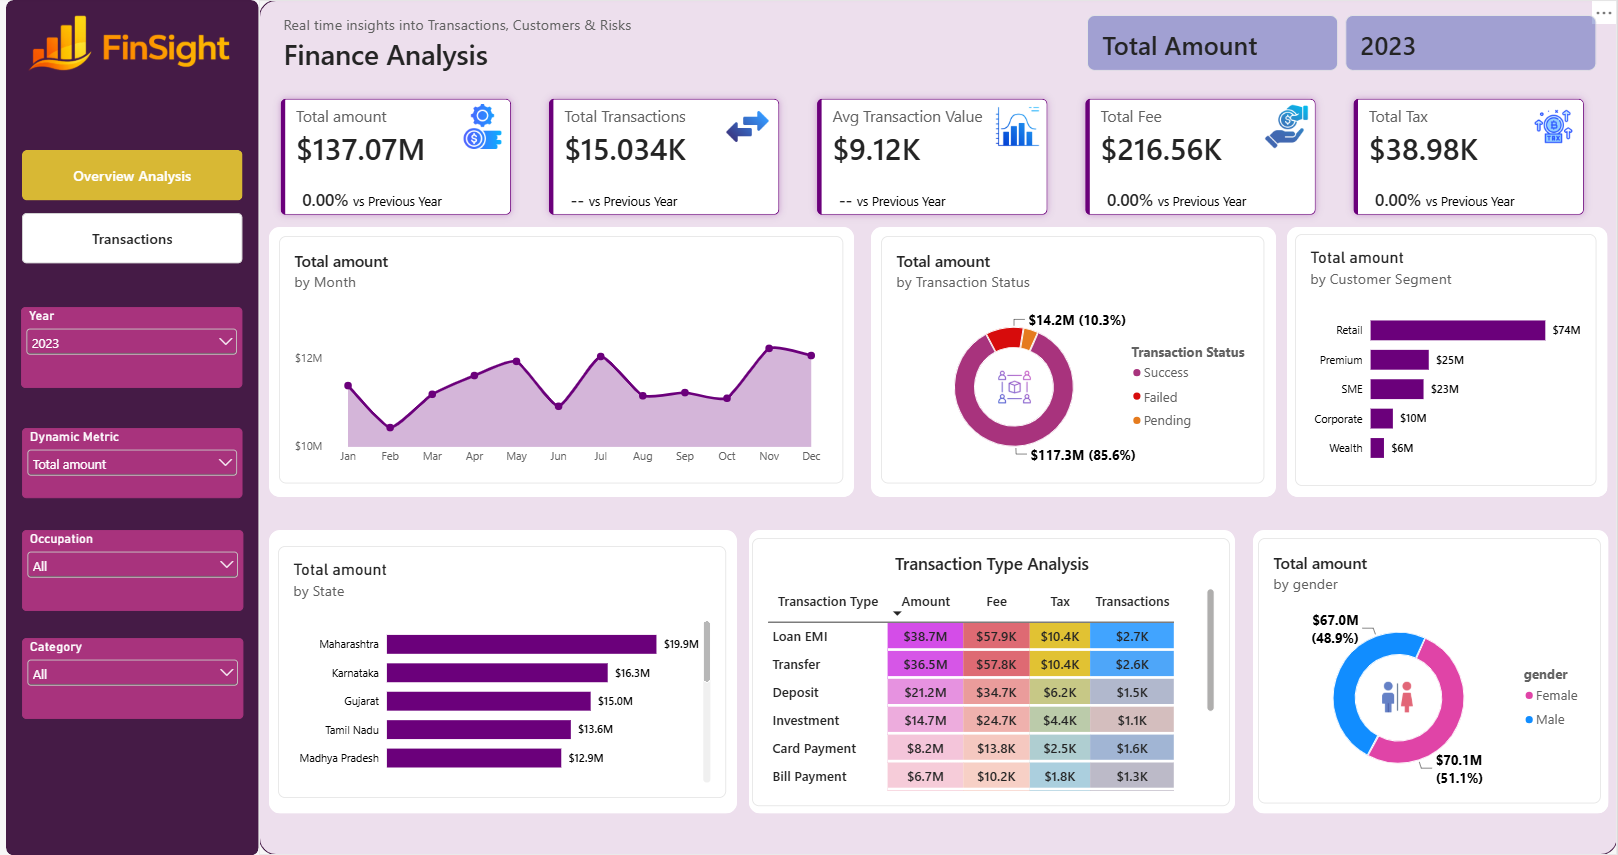

This screenshot's page, from the dashboard's own definition file:
{"tool":"powerbi","page":{"name":"Overview Analysis","canvas":[1800,950],"ordinal":0},"visuals":[{"type":"shape","box":[9.8,0,280.7,950.5],"z":0},{"type":"shape","box":[291.1,0,1509.4,950],"z":1000},{"type":"image","box":[27.1,0,246.2,97.3],"z":2000},{"type":"cardVisual","fields":{"Data":["finance_transactions.Dashsboard Title"]},"box":[302,0,445.1,97],"z":3000},{"type":"cardVisual","fields":{"Data":["finance_transactions.Total amount","finance_transactions.Total Transactions","finance_transactions.Avg Transaction Value","finance_transactions.Total Fee","finance_transactions.Total Tax"]},"box":[302,97,1476.1,155],"z":4000},{"type":"slicer","fields":{"Values":["Calendar Table.Year"]},"box":[26.2,341.2,246.2,89.8],"z":5000},{"type":"image","box":[513.9,115.6,50,50],"z":6000},{"type":"image","box":[809.4,115.6,50,50],"z":7000},{"type":"image","box":[1408.1,115.6,50,50],"z":8000},{"type":"image","box":[1108.8,115.6,50,50],"z":9000},{"type":"image","box":[1704.9,115.6,50,50],"z":10000},{"type":"slicer","fields":{"Values":["Dynamic Metric.Dynamic Metric"]},"box":[27.5,475,245,77.5],"z":11000},{"type":"shape","box":[302,252.3,650,300],"z":12000},{"type":"areaChart","fields":{"Category":["Calendar Table.Month"],"Y":["finance_transactions.Total amount"]},"box":[312.9,262,627.1,275.3],"z":13000},{"type":"cardVisual","fields":{"Data":["Dynamic Metric.Selected Dynamic Measure","finance_transactions.Selected Year"]},"box":[1211.4,16.5,566.2,62.5],"z":14000},{"type":"shape","box":[971.2,252.5,450,300],"z":15000},{"type":"donutChart","fields":{"Category":["finance_transactions.transaction_status"],"Y":["finance_transactions.Total amount"]},"box":[982.5,262.5,426.2,275],"z":16000},{"type":"shape","box":[1433.8,252.5,356.2,300],"z":17000},{"type":"barChart","fields":{"Category":["customers.customer_segment"],"Y":["finance_transactions.Total amount"]},"box":[1442.5,260,335,280],"z":18000},{"type":"shape","box":[302.5,588.8,520,315],"z":19000},{"type":"barChart","fields":{"Category":["customers.state"],"Y":["finance_transactions.Total amount"]},"box":[312.5,606.2,497.5,280],"z":20000},{"type":"shape","box":[835,588.8,540,315],"z":21000},{"type":"tableEx","title":"Transaction Type Analysis","fields":{"Values":["finance_transactions.transaction_type","finance_transactions.Total amount","finance_transactions.Total Fee","finance_transactions.Total Tax","finance_transactions.Total Transactions"]},"box":[838.8,597.5,531.2,297.5],"z":22000},{"type":"shape","box":[1395,588.8,395,315],"z":23000},{"type":"donutChart","fields":{"Category":["customers.gender"],"Y":["finance_transactions.Total amount"]},"box":[1401.2,597.5,381.2,295],"z":24000},{"type":"image","box":[1111.2,405,38.8,48.8],"z":25000},{"type":"image","box":[1536.2,750,38.8,48.8],"z":26000},{"type":"slicer","fields":{"Values":["customers.occupation"]},"box":[27.5,588.8,246.2,89.8],"z":26001},{"type":"slicer","fields":{"Values":["finance_transactions.merchant_category"]},"box":[27.5,708.8,246.2,89.8],"z":26002},{"type":"pageNavigator","box":[27.5,166.2,245,126.2],"z":26003}]}

Visuals, with their boxes on the page's 1800x950 design canvas (x1, y1, x2, y2). These are canvas units, not pixel positions in the 1618x855 screenshot, which may show the page scaled, cropped or inside an application window:
shape: bbox(10, 0, 290, 950)
shape: bbox(291, 0, 1800, 950)
image: bbox(27, 0, 273, 97)
cardVisual - finance_transactions.Dashsboard Title: bbox(302, 0, 747, 97)
cardVisual - finance_transactions.Total amount x finance_transactions.Total Transactions: bbox(302, 97, 1778, 252)
slicer - Calendar Table.Year: bbox(26, 341, 272, 431)
image: bbox(514, 116, 564, 166)
image: bbox(809, 116, 859, 166)
image: bbox(1408, 116, 1458, 166)
image: bbox(1109, 116, 1159, 166)
image: bbox(1705, 116, 1755, 166)
slicer - Dynamic Metric.Dynamic Metric: bbox(28, 475, 272, 552)
shape: bbox(302, 252, 952, 552)
areaChart - Calendar Table.Month x finance_transactions.Total amount: bbox(313, 262, 940, 537)
cardVisual - Dynamic Metric.Selected Dynamic Measure x finance_transactions.Selected Year: bbox(1211, 16, 1778, 79)
shape: bbox(971, 252, 1421, 552)
donutChart - finance_transactions.transaction_status x finance_transactions.Total amount: bbox(982, 262, 1409, 538)
shape: bbox(1434, 252, 1790, 552)
barChart - customers.customer_segment x finance_transactions.Total amount: bbox(1442, 260, 1778, 540)
shape: bbox(302, 589, 822, 904)
barChart - customers.state x finance_transactions.Total amount: bbox(312, 606, 810, 886)
shape: bbox(835, 589, 1375, 904)
"Transaction Type Analysis" tableEx: bbox(839, 598, 1370, 895)
shape: bbox(1395, 589, 1790, 904)
donutChart - customers.gender x finance_transactions.Total amount: bbox(1401, 598, 1782, 892)
image: bbox(1111, 405, 1150, 454)
image: bbox(1536, 750, 1575, 799)
slicer - customers.occupation: bbox(28, 589, 274, 679)
slicer - finance_transactions.merchant_category: bbox(28, 709, 274, 799)
pageNavigator: bbox(28, 166, 272, 292)
